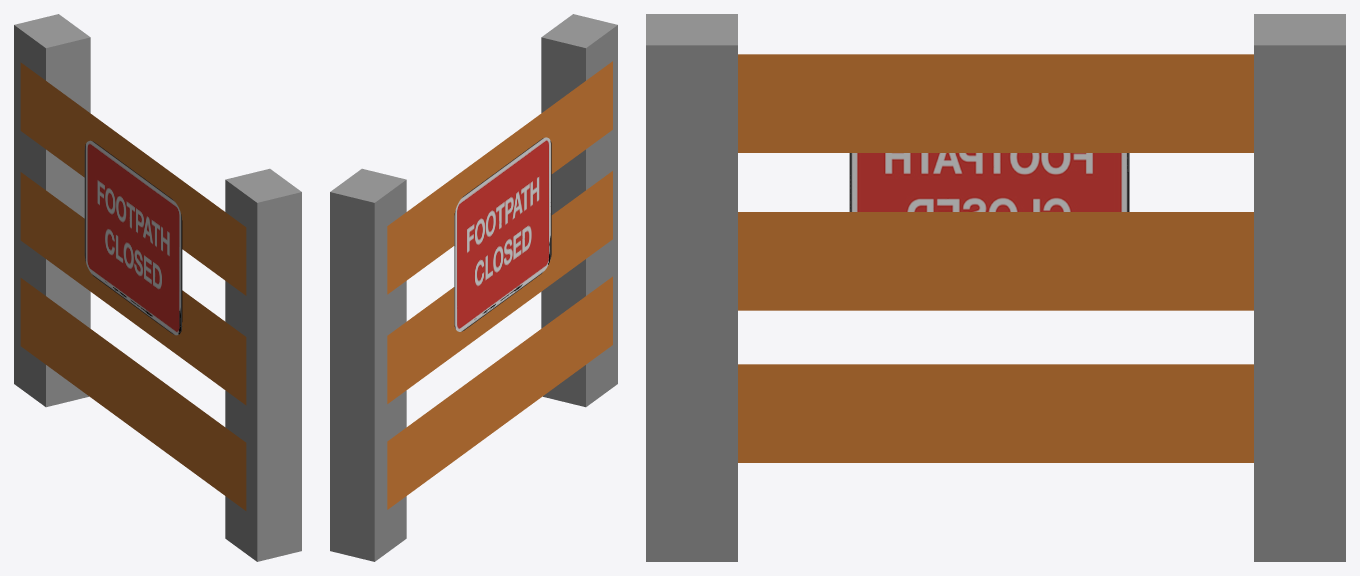
File: sign.glb
3 views of the same model, side by side, from view 1: azimuth 30°, elevation 25°; view 2: azimuth 150°, elevation 25°; view 3: azimuth 270°, elevation 25° (orthographic). The views are drawn at different scales.
Parts seen in each view (by area): view 1: Cube, Plane.002, Cube.001, Plane.003, Plane.001, Plane; view 2: Cube.001, Plane.002, Cube, Plane.003, Plane.001, Plane; view 3: Plane, Plane.001, Plane.002, Cube, Cube.001, Plane.003.
Part boxes in pixels (left/top/right/bottom): Cube: left=225, top=168, right=301, bottom=561; Plane.002: left=20, top=278, right=246, bottom=510; Cube.001: left=14, top=14, right=90, bottom=407; Plane.003: left=84, top=140, right=182, bottom=335; Plane.001: left=20, top=62, right=246, bottom=295; Plane: left=20, top=172, right=246, bottom=405; Cube.001: left=330, top=168, right=406, bottom=561; Plane.002: left=387, top=276, right=612, bottom=509; Cube: left=541, top=14, right=617, bottom=407; Plane.003: left=454, top=137, right=551, bottom=331; Plane.001: left=387, top=61, right=612, bottom=294; Plane: left=387, top=171, right=612, bottom=403; Plane: left=738, top=212, right=1253, bottom=310; Plane.001: left=738, top=54, right=1253, bottom=152; Plane.002: left=738, top=364, right=1253, bottom=462; Cube: left=646, top=14, right=737, bottom=561; Cube.001: left=1254, top=14, right=1345, bottom=561; Plane.003: left=849, top=153, right=1129, bottom=211.
Bounding box in the file's own units: 0.2947 × 2.06 × 2.53.
Materials: 6 (1 with a texture image).
